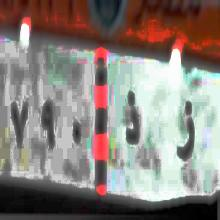0: (70, 111, 85, 158)
7: (10, 99, 29, 150)
9: (40, 98, 56, 157)
zaal: (124, 89, 141, 151)
zay: (176, 98, 197, 165)
